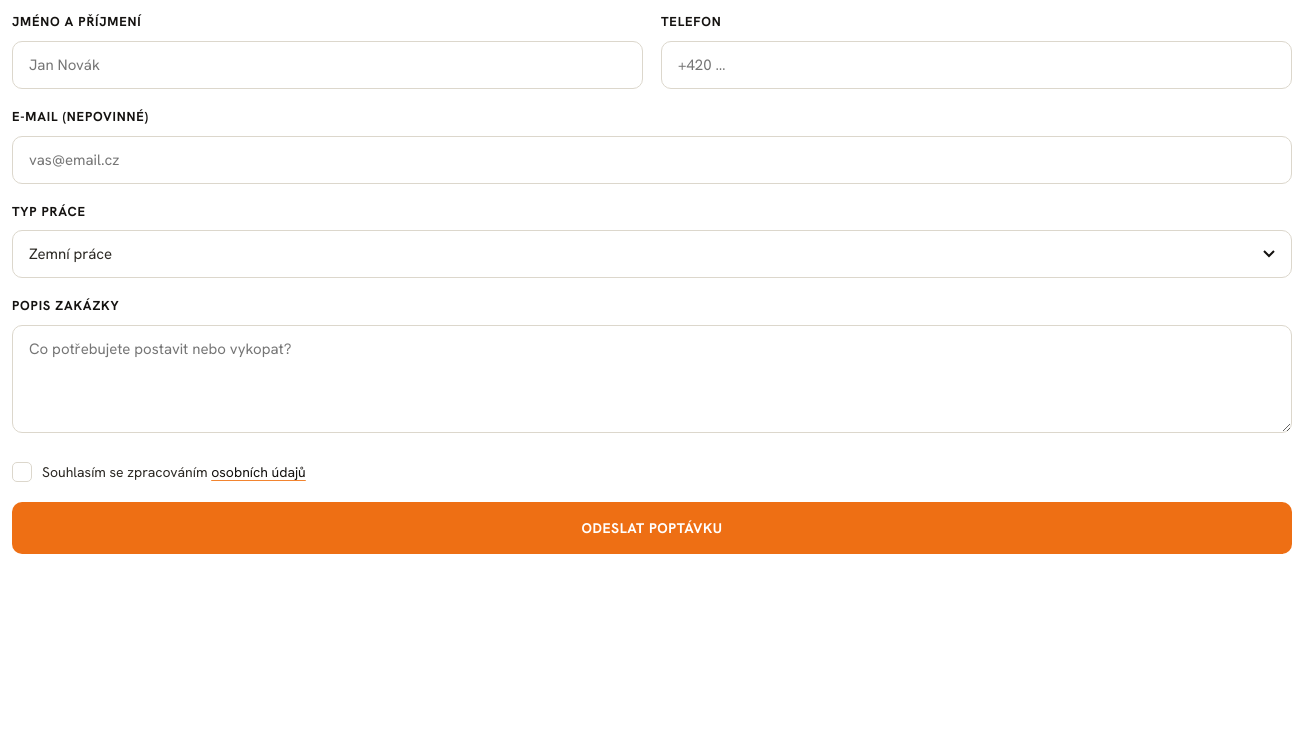
Test: ContactForm › shows validation errors on empty submit and does not navigate
Click the button "Odeslat poptávku".
click(652, 528)  # box x1=12 y1=502 x2=1292 y2=554
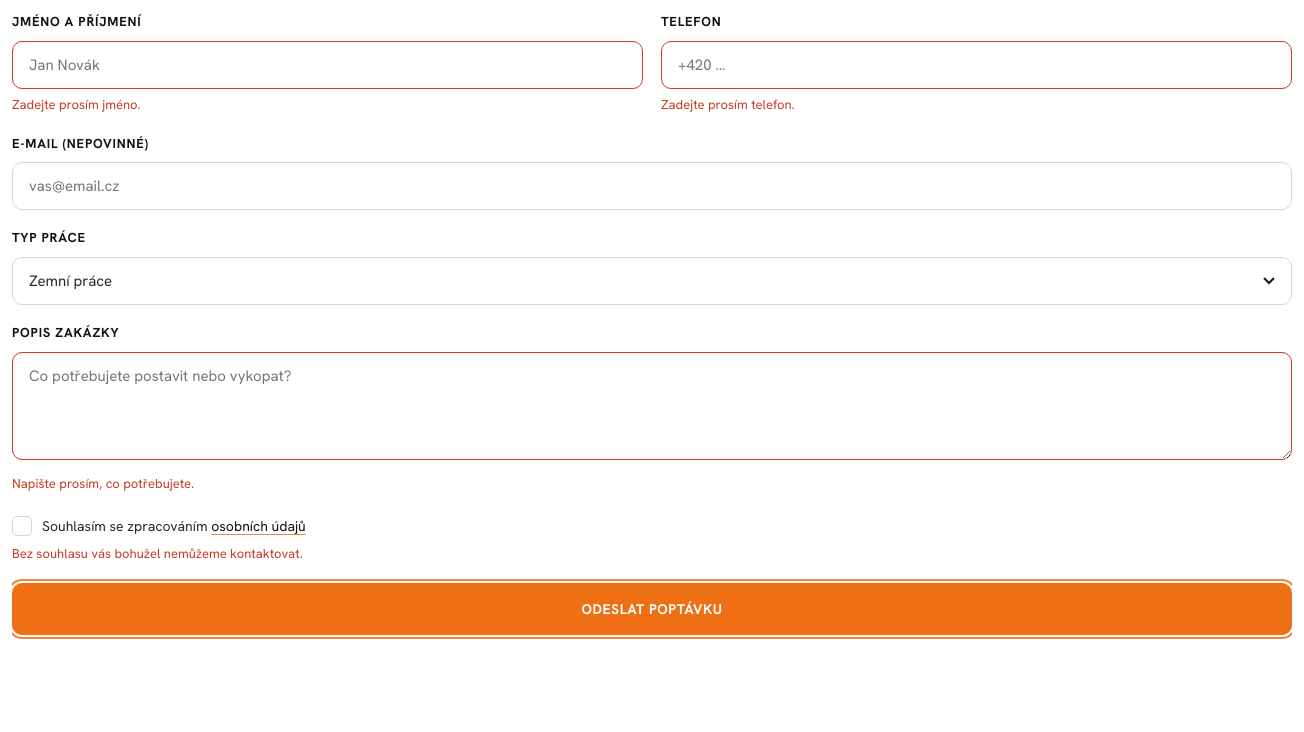
expect the text "Zadejte prosím jméno." is shown: met, box x1=12 y1=96 x2=141 y2=113
